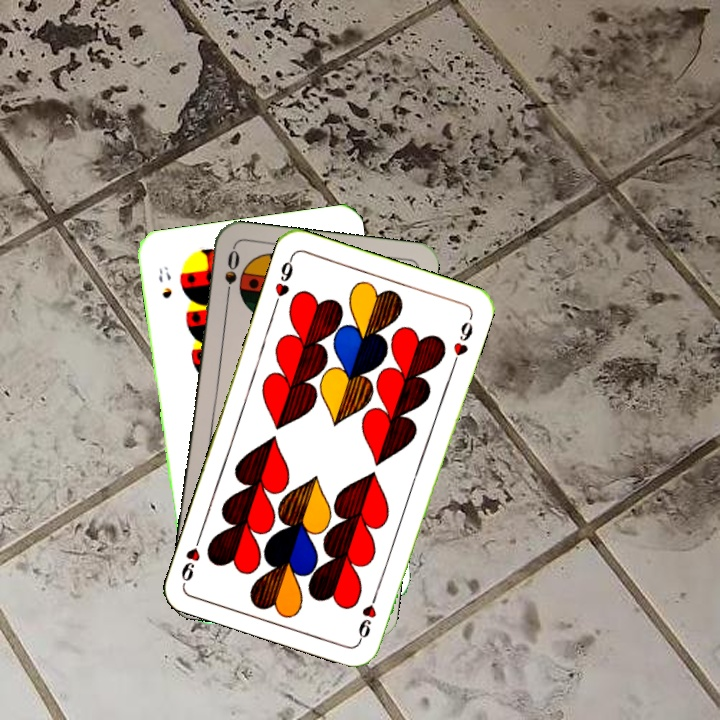H9: (354, 585, 381, 643), (270, 252, 296, 310)
S8: (154, 262, 175, 301)
SO: (220, 246, 242, 305)
